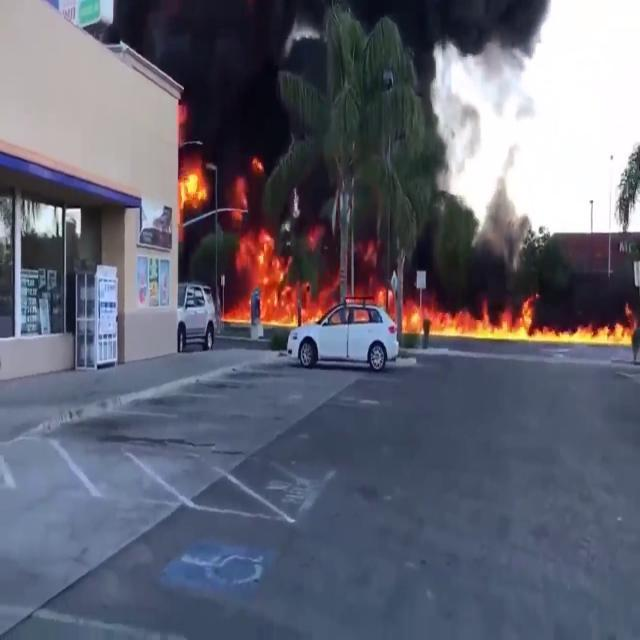Fire: (396, 292, 632, 344), (224, 223, 318, 332), (168, 144, 214, 214)
Smoke: (154, 0, 352, 252)
